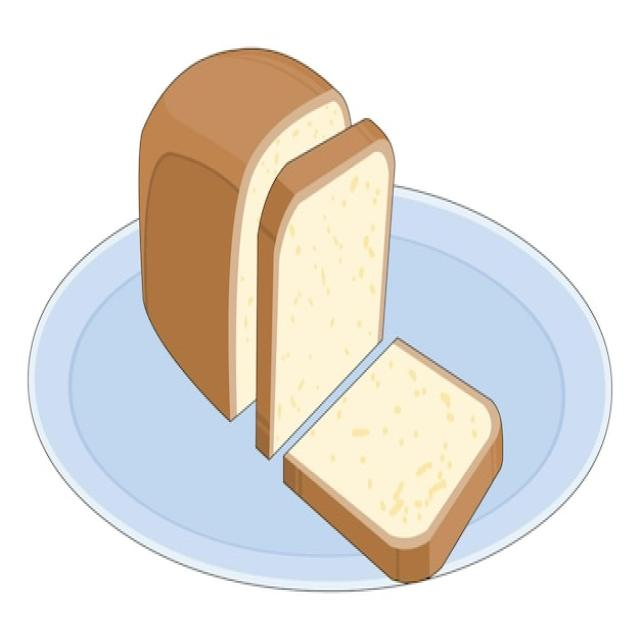Bread: (284, 339, 502, 580), (256, 120, 395, 457)
